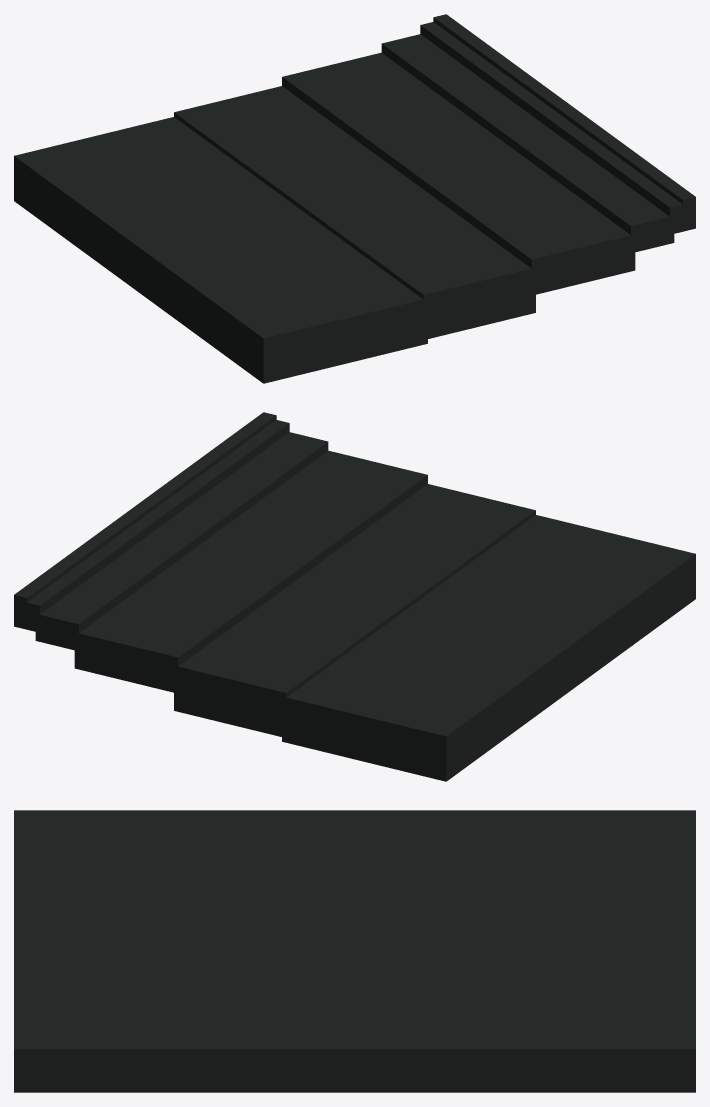
Rendered from Floor_OuterCurved-1_00.fbx.
3 renders of one model, top to bottom at view 1: azimuth 30°, elevation 25°; view 2: azimuth 150°, elevation 25°; view 3: azimuth 270°, elevation 25°, orthographic. The views are drawn at different scales.
Parts seen in each view (by area): view 1: Floor_OuterCurved-1_00; view 2: Floor_OuterCurved-1_00; view 3: Floor_OuterCurved-1_00.
Part boxes in pixels (x1=…): Floor_OuterCurved-1_00: x1=14, y1=14, x2=695, y2=383; Floor_OuterCurved-1_00: x1=14, y1=412, x2=695, y2=781; Floor_OuterCurved-1_00: x1=14, y1=810, x2=695, y2=1092.
Bounding box in the file's own units: 500 × 90 × 500.
